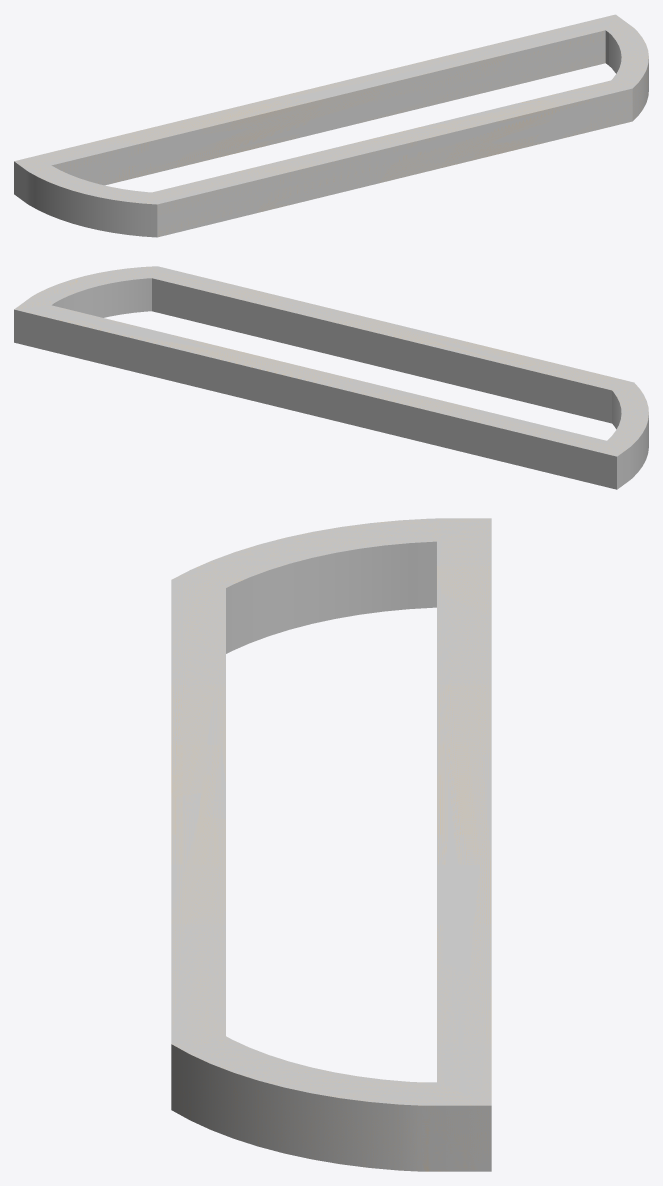
The model's file is original-2.obj.
3 views of the same model, one above another, from view 1: azimuth 30°, elevation 25°; view 2: azimuth 150°, elevation 25°; view 3: azimuth 270°, elevation 25° (orthographic). The views are drawn at different scales.
Visible parts, largest first — view 1: handle1/handle/mesh1/mesh1-geometry#mesh1-geometry; view 2: handle1/handle/mesh1/mesh1-geometry#mesh1-geometry; view 3: handle1/handle/mesh1/mesh1-geometry#mesh1-geometry.
Part boxes in pixels (x1=…): handle1/handle/mesh1/mesh1-geometry#mesh1-geometry: x1=14, y1=14, x2=648, y2=237; handle1/handle/mesh1/mesh1-geometry#mesh1-geometry: x1=14, y1=266, x2=648, y2=489; handle1/handle/mesh1/mesh1-geometry#mesh1-geometry: x1=171, y1=518, x2=491, y2=1171.
Bounding box in the file's own units: 0.0968 × 0.00507 × 0.0223.
